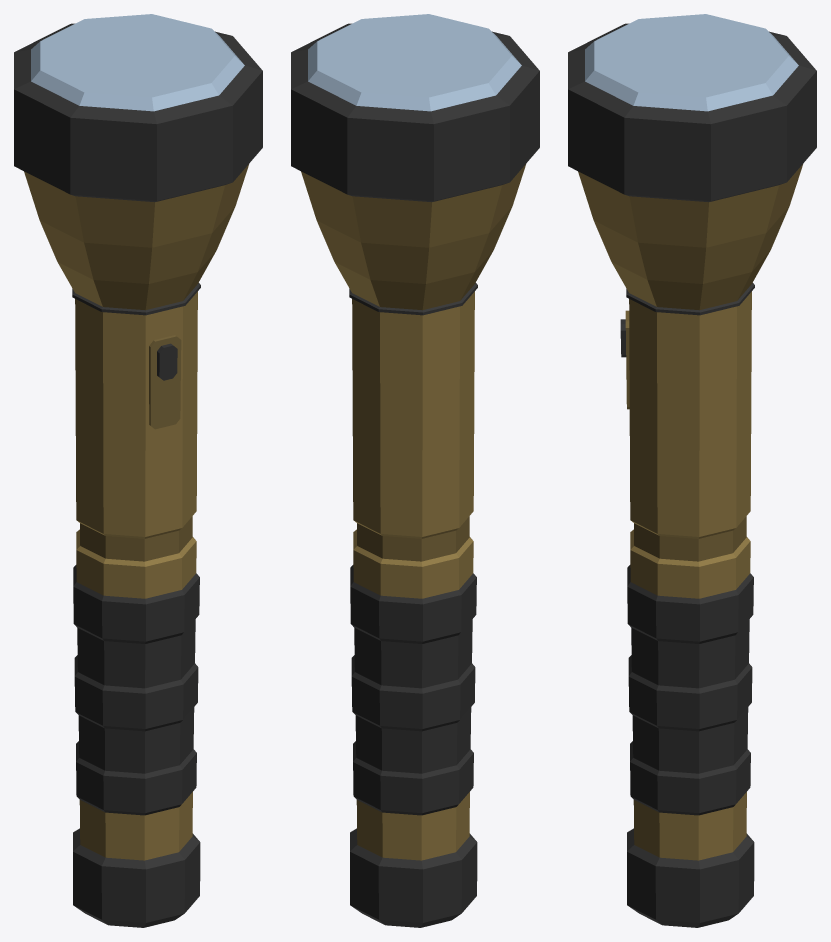
The model's file is torch.glb.
The picture shows the model from 3 angles, left to right: view 1: azimuth 30°, elevation 25°; view 2: azimuth 150°, elevation 25°; view 3: azimuth 270°, elevation 25°; orthographic projection.
Visible parts, largest first — view 1: Torch; view 2: Torch; view 3: Torch.
Boxes of the visible parts, bbox=[...] form: Torch: bbox=[14, 14, 262, 927]; Torch: bbox=[291, 14, 539, 927]; Torch: bbox=[568, 14, 816, 927].
Bounding box in the file's own units: 0.6764 × 2.51 × 0.6661.
